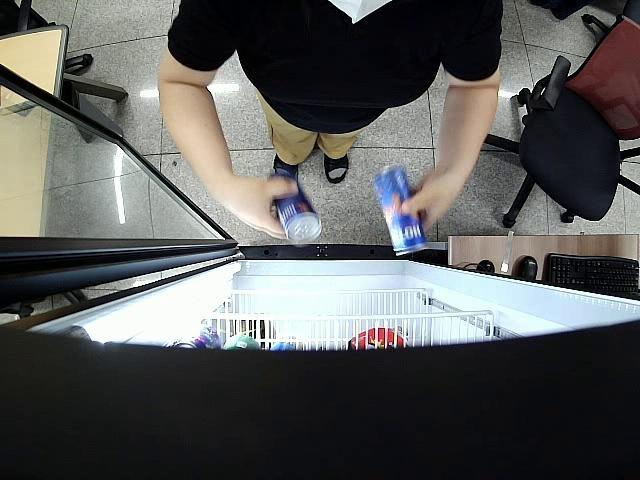16_hot6: (372, 165, 429, 260), (262, 168, 322, 246)
